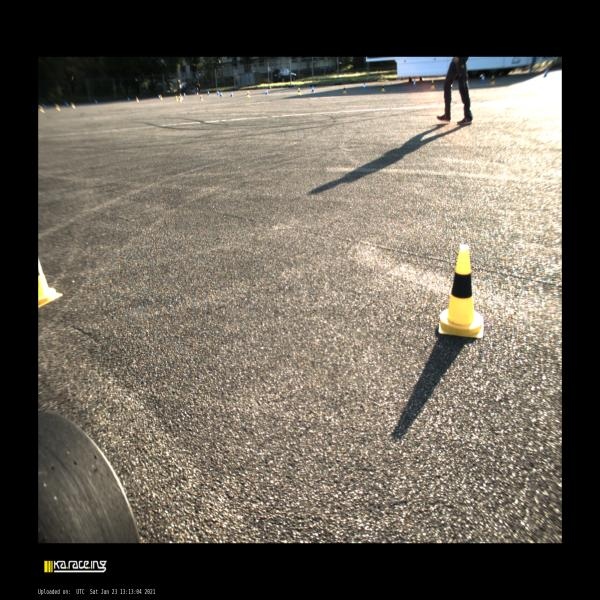blue_cone: (481, 74, 485, 83), (362, 82, 366, 90), (543, 70, 547, 77), (413, 78, 416, 87), (219, 91, 223, 97), (311, 86, 314, 92), (265, 88, 268, 94), (230, 91, 233, 96), (184, 92, 186, 97), (158, 94, 160, 99), (217, 92, 219, 95), (208, 91, 209, 95)
yellow_cone: (438, 243, 483, 338), (38, 256, 63, 308), (490, 76, 495, 86), (430, 80, 435, 89), (381, 84, 385, 92), (200, 94, 203, 102), (135, 96, 139, 102), (247, 91, 250, 98), (298, 88, 301, 95), (343, 86, 346, 93), (178, 97, 182, 102), (175, 96, 178, 101), (160, 95, 163, 100), (180, 94, 182, 99)
